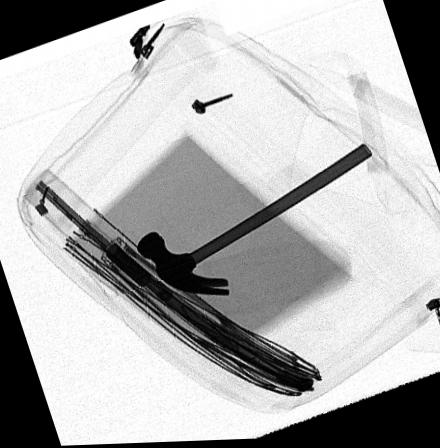Hammer: (137, 146, 373, 298)
